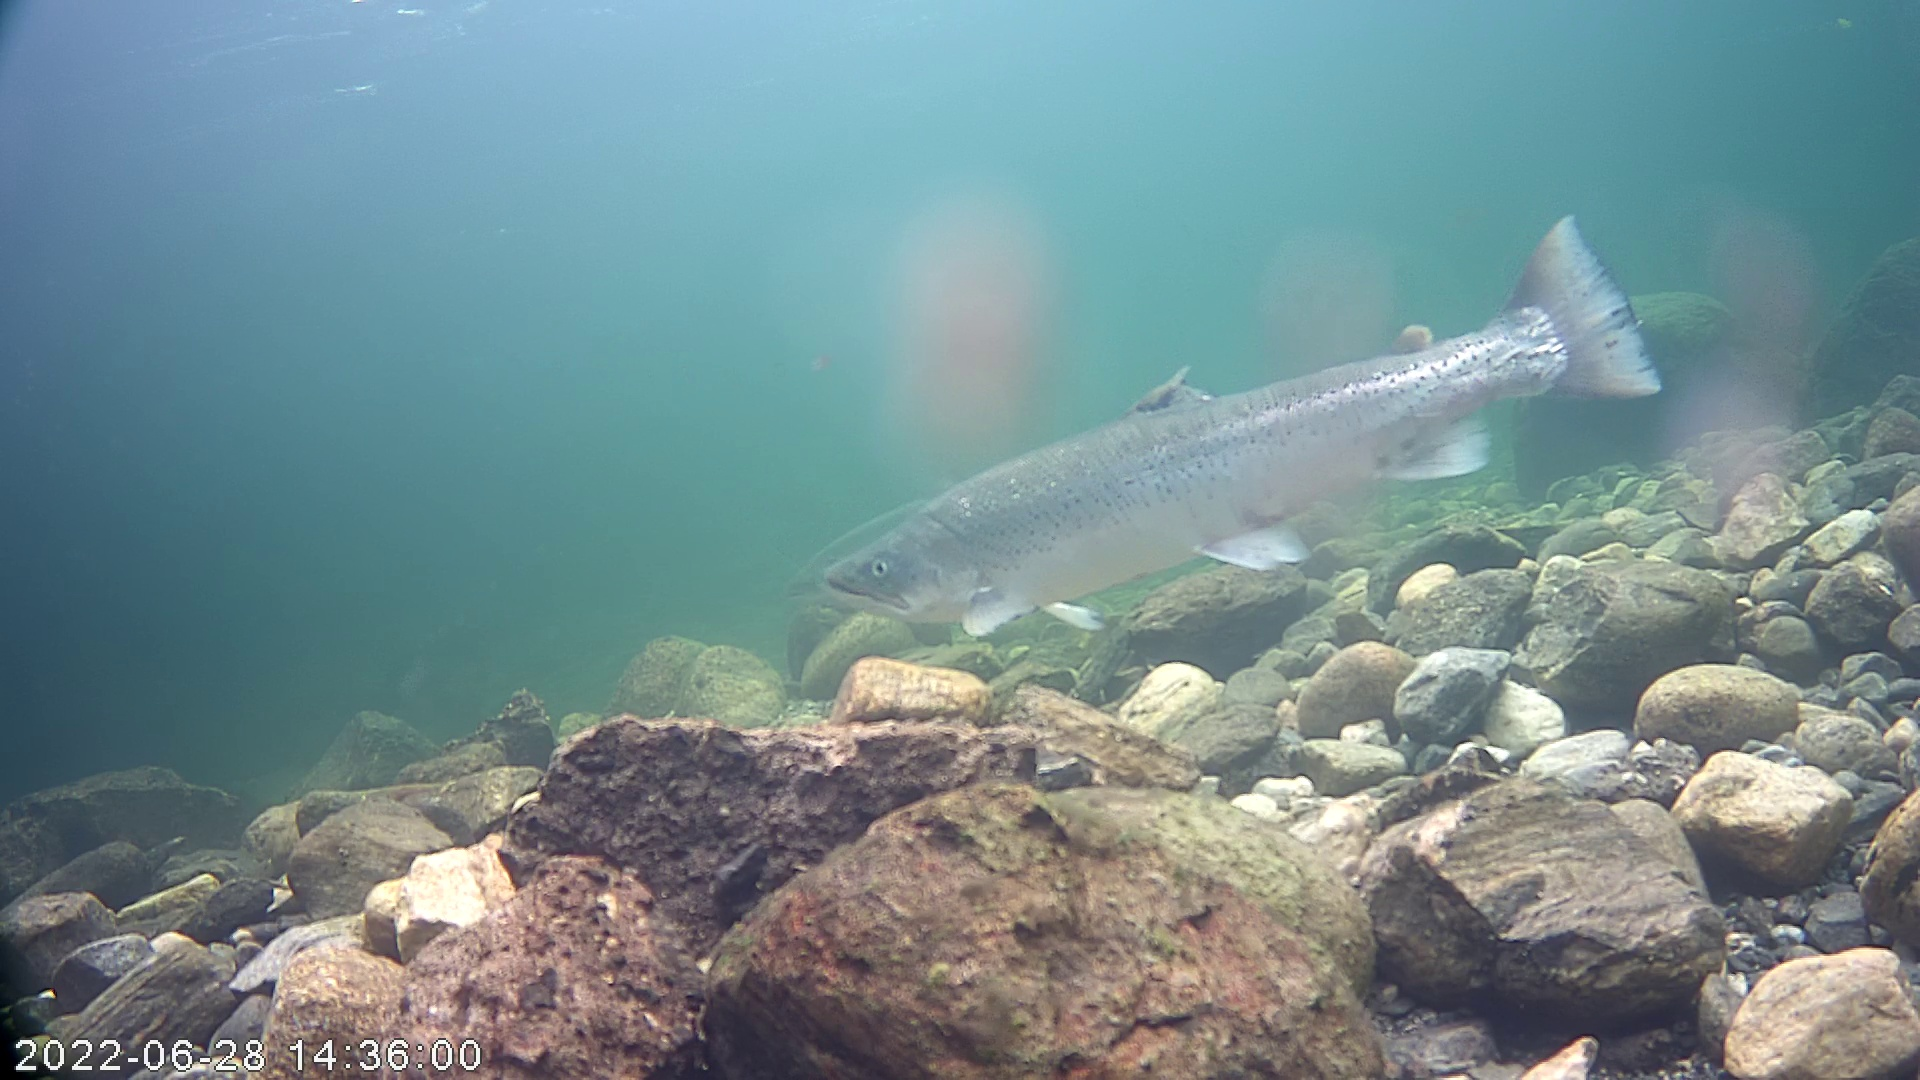salmon: (798, 196, 1673, 673)
